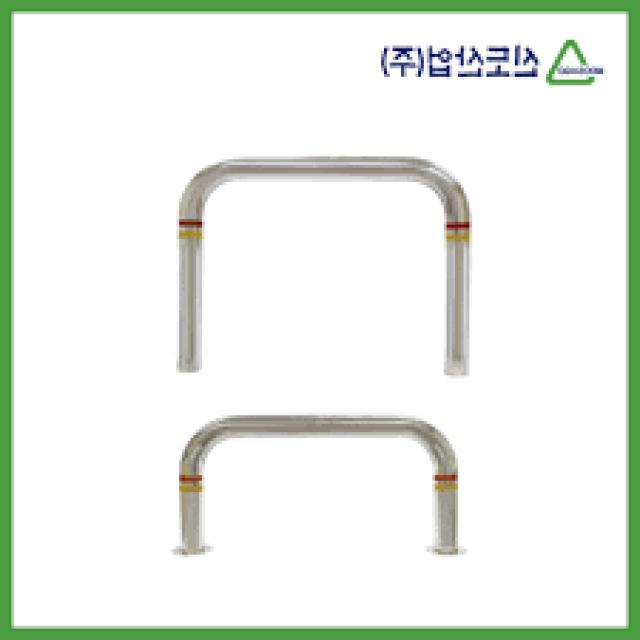bollard: (172, 150, 480, 382), (171, 408, 471, 563)
